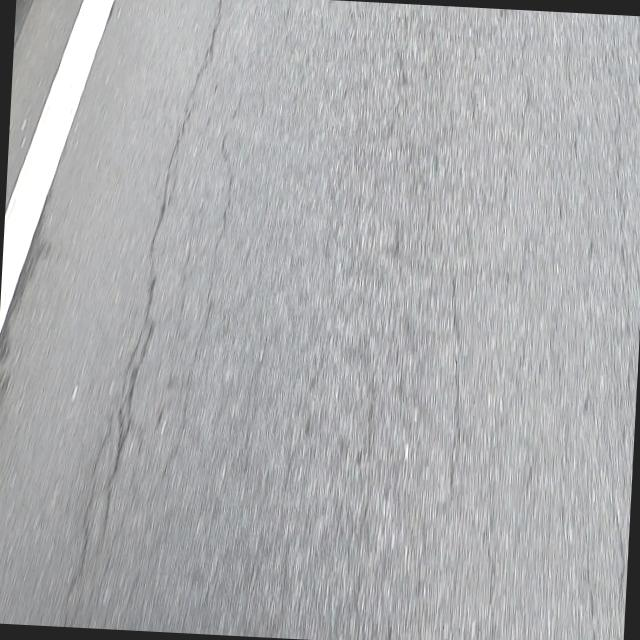Retak-Memanjang: (100, 0, 224, 552)
